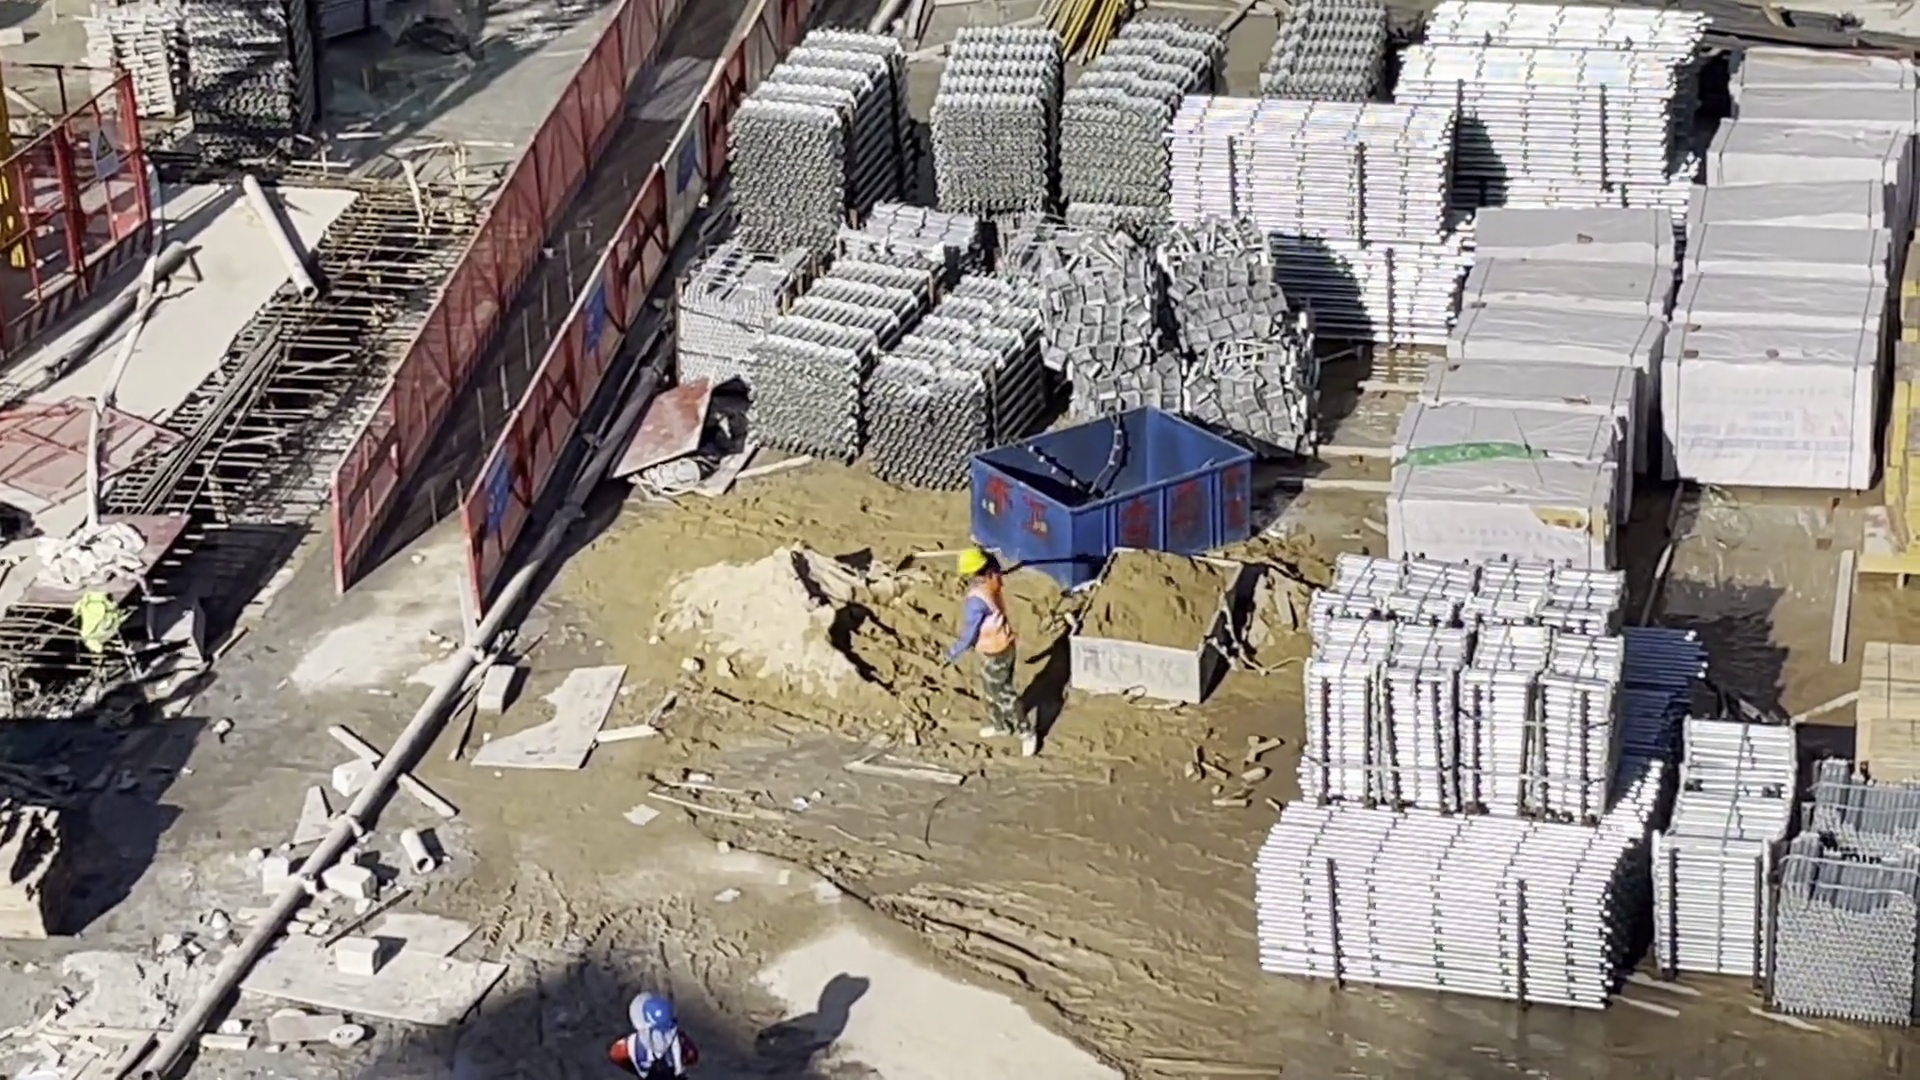board: (1888, 297, 1920, 569), (1859, 645, 1920, 785)
fence: (343, 1, 779, 566)
helmet: (645, 995, 676, 1030), (957, 549, 988, 573)
hopper: (974, 407, 1252, 587), (1069, 549, 1244, 704)
person: (948, 549, 1042, 757), (613, 993, 679, 1080)
scaffold: (1258, 792, 1647, 1007), (1312, 551, 1617, 816), (1171, 100, 1455, 345), (755, 256, 1051, 489), (939, 26, 1229, 216), (1406, 38, 1670, 189), (1770, 772, 1920, 1014), (1655, 714, 1794, 968), (738, 39, 900, 242), (188, 1, 317, 139), (78, 7, 183, 112), (1276, 1, 1386, 103)
slogan: (483, 450, 509, 527), (583, 276, 609, 354)
vest: (967, 584, 1013, 661), (625, 1035, 678, 1077)
